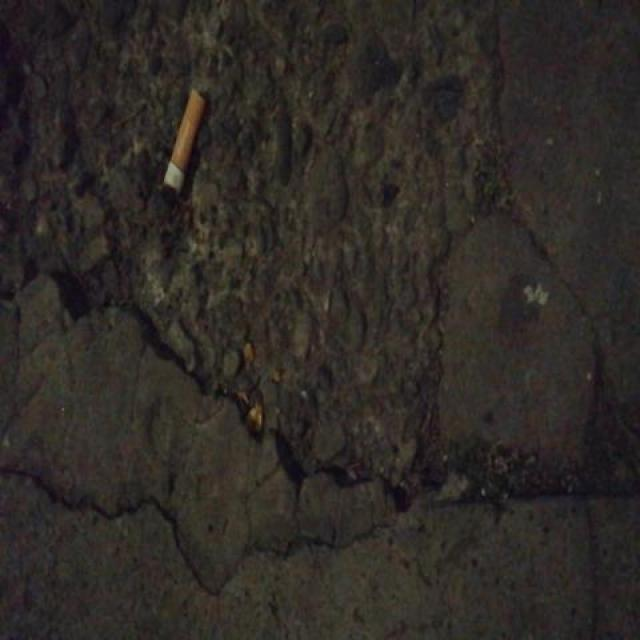non-organic waste: (158, 84, 210, 197)
